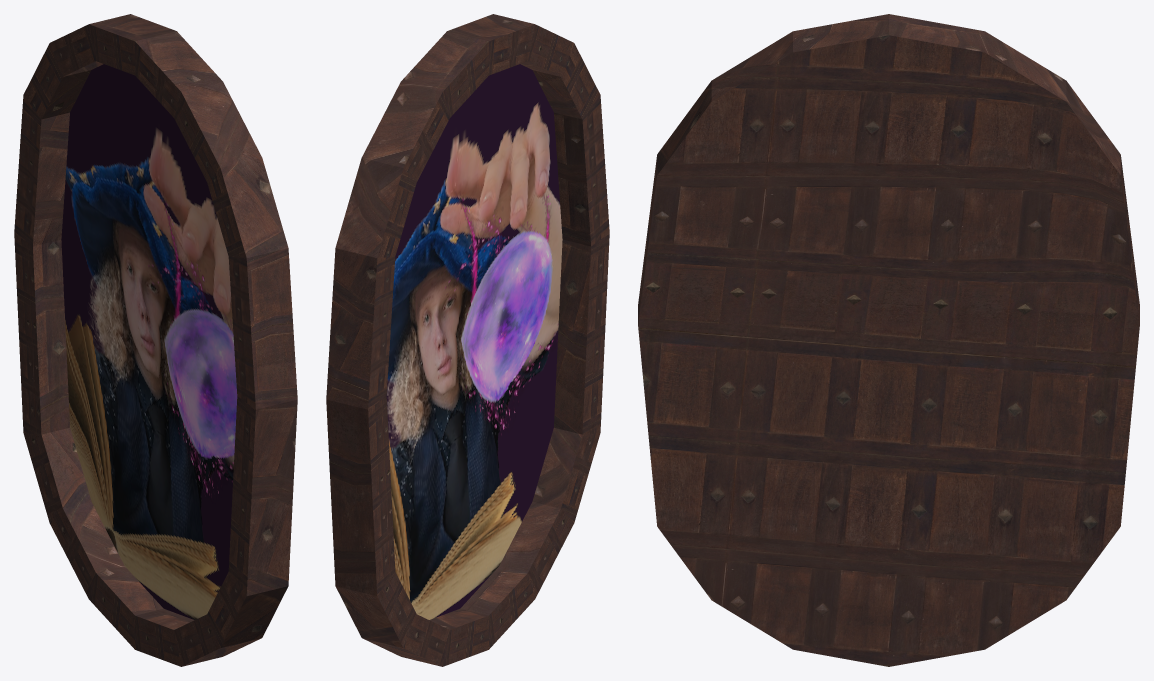
The model's file is Fisker wizard.fbx.
3 views of the same model, side by side, from view 1: azimuth 30°, elevation 25°; view 2: azimuth 150°, elevation 25°; view 3: azimuth 270°, elevation 25° (orthographic). The views are drawn at different scales.
Visible parts, largest first — view 1: Cylinder; view 2: Cylinder; view 3: Cylinder.
Part boxes in pixels (bbox=[...]): Cylinder: bbox=[14, 14, 297, 666]; Cylinder: bbox=[326, 14, 609, 666]; Cylinder: bbox=[638, 14, 1139, 666].
Size of the model in its own units: 20 by 278 by 200.
